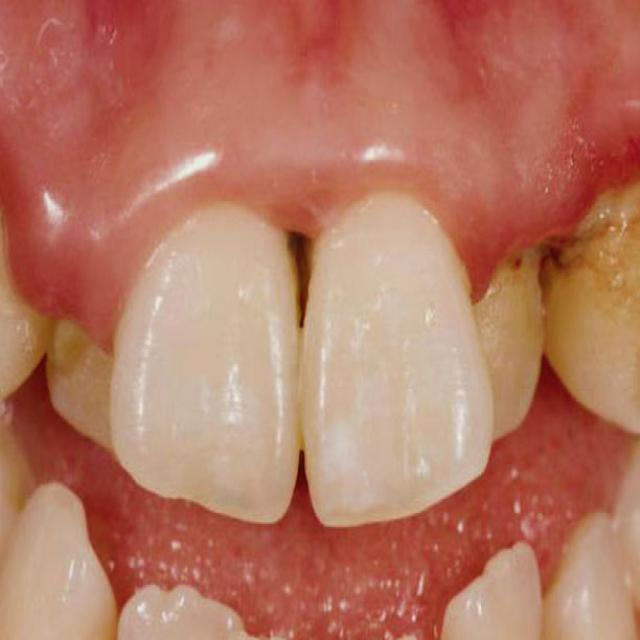caries: (266, 226, 326, 320)
